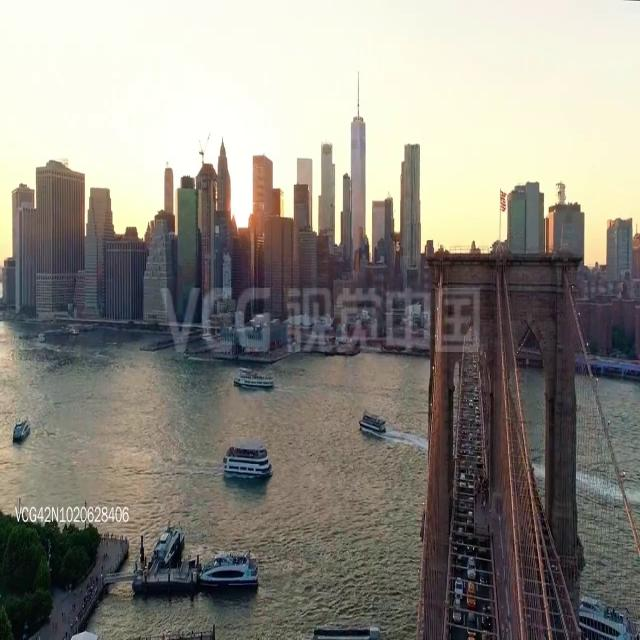houseboat: (577, 595, 640, 640), (202, 550, 263, 592), (13, 414, 32, 444)
passenger ship: (233, 366, 276, 393), (360, 411, 388, 441)
